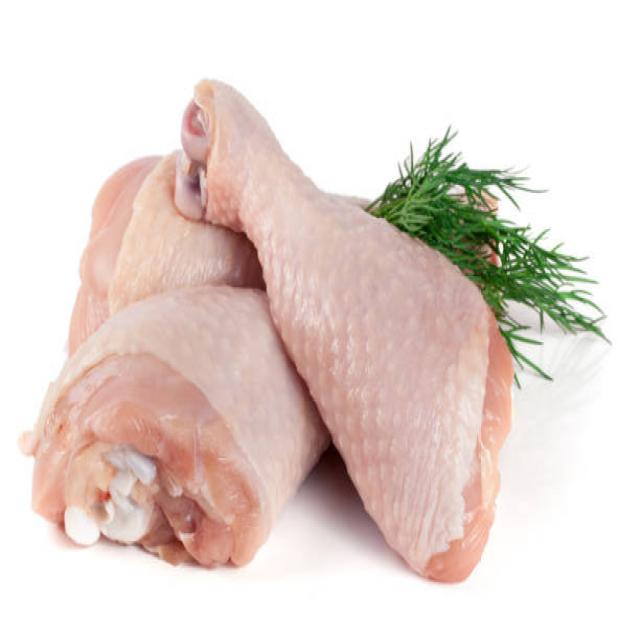chicken wing: (189, 80, 504, 579), (34, 289, 296, 561)
